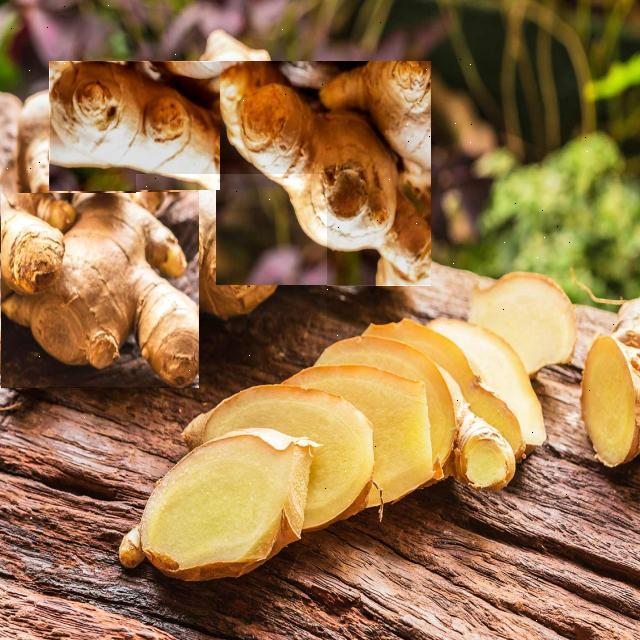ginger: (215, 61, 430, 284), (0, 193, 197, 386), (135, 174, 326, 317), (49, 61, 218, 190)
